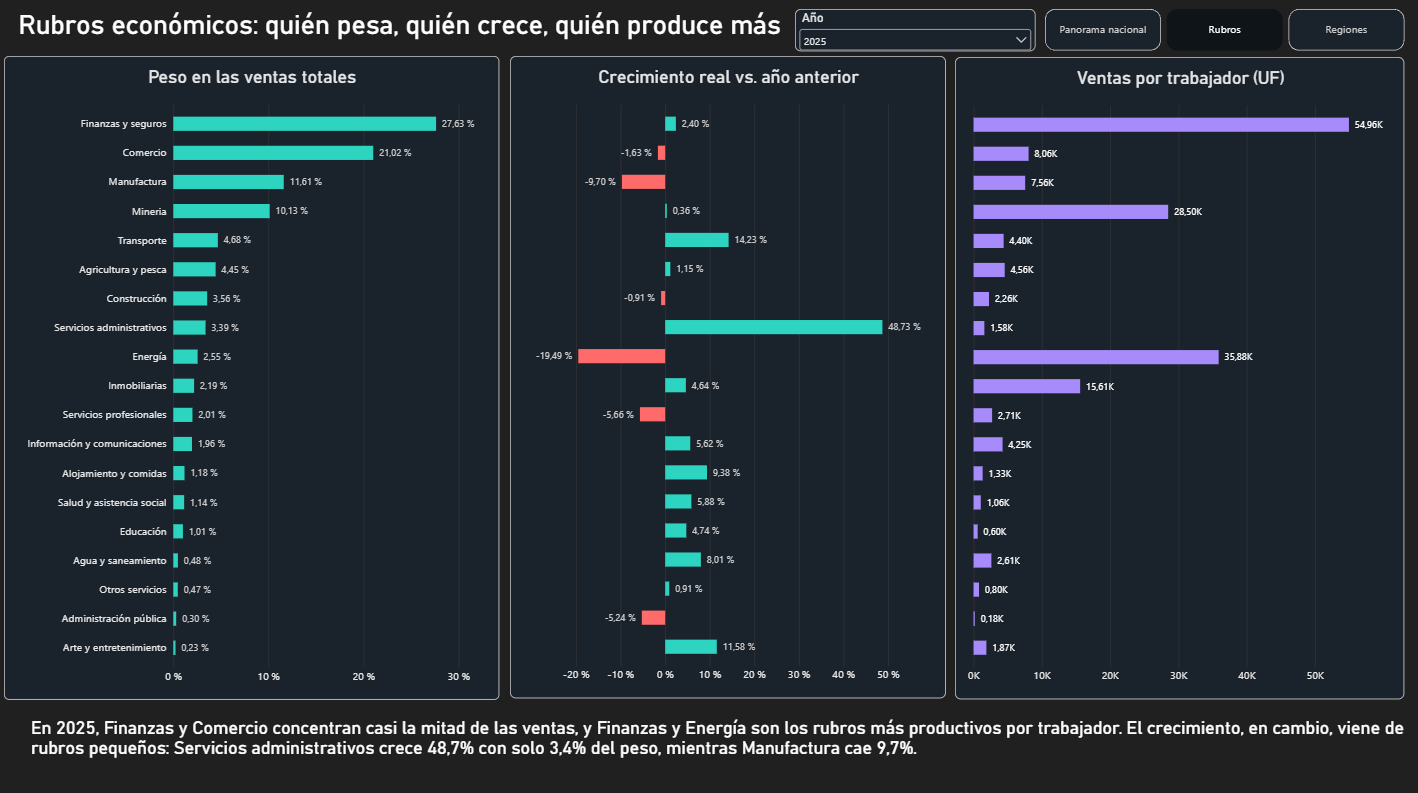

The dashboard page shown, as its layout file describes it:
{"tool":"powerbi","page":{"name":"Rubros ","canvas":[1920,1080],"ordinal":1},"visuals":[{"type":"slicer","fields":{"Values":["Dim_Año.Año Comercial"]},"box":[1076.7,17.5,323.9,56.9],"z":0},{"type":"textbox","title":"Rubros económicos: quién pesa, quién crece, quién produce más","box":[0,17.5,1089.8,81.7],"z":1000},{"type":"textbox","title":"En 2025, Finanzas y Comercio concentran casi la mitad de las ventas, y Finanzas y Energía son los rubros más productivos por trabajador. El crecimiento, en cambio, viene de rubros pequeños: Servicios ","box":[48.1,971.7,1850,68.6],"z":2000},{"type":"clusteredBarChart","title":"Peso en las ventas totales","fields":{"Category":["Dim_Rubro.Rubro económico Abreviado"],"Y":["_medidas.Participación Ventas Rubro %"]},"box":[11.7,80.2,666.7,866.6],"z":3000},{"type":"clusteredBarChart","title":"Crecimiento real vs. año anterior","fields":{"Category":["Dim_Rubro.Rubro económico Abreviado"],"Y":["_medidas.Crecimiento Ventas %"]},"box":[693,80.2,586.5,865.2],"z":4000},{"type":"clusteredBarChart","title":"Ventas por trabajador (UF)","fields":{"Category":["Dim_Rubro.Rubro económico Abreviado"],"Y":["_medidas.Ventas por Trabajador UF"]},"box":[1292.6,81.7,605.5,865.2],"z":5000},{"type":"pageNavigator","box":[1413.7,17.5,484.4,56.9],"z":6000}]}

Visuals, with their boxes in screenshot pixels (x1, y1, x2, y2), scaled from the page's 1920x1080 canvas onto the 1418x793 screenshot:
slicer - Dim_Año.Año Comercial: (x1=795, y1=13, x2=1034, y2=55)
"Rubros económicos: quién pesa, quién crece, quién produce más" textbox: (x1=0, y1=13, x2=805, y2=73)
"En 2025, Finanzas y Comercio concentran casi la mitad de las ventas, y Finanzas y Energía son los rubros más productivos por trabajador. El crecimiento, en cambio, viene de rubros pequeños: Servicios " textbox: (x1=36, y1=713, x2=1402, y2=764)
"Peso en las ventas totales" clusteredBarChart: (x1=9, y1=59, x2=501, y2=695)
"Crecimiento real vs. año anterior" clusteredBarChart: (x1=512, y1=59, x2=945, y2=694)
"Ventas por trabajador (UF)" clusteredBarChart: (x1=955, y1=60, x2=1402, y2=695)
pageNavigator: (x1=1044, y1=13, x2=1402, y2=55)
